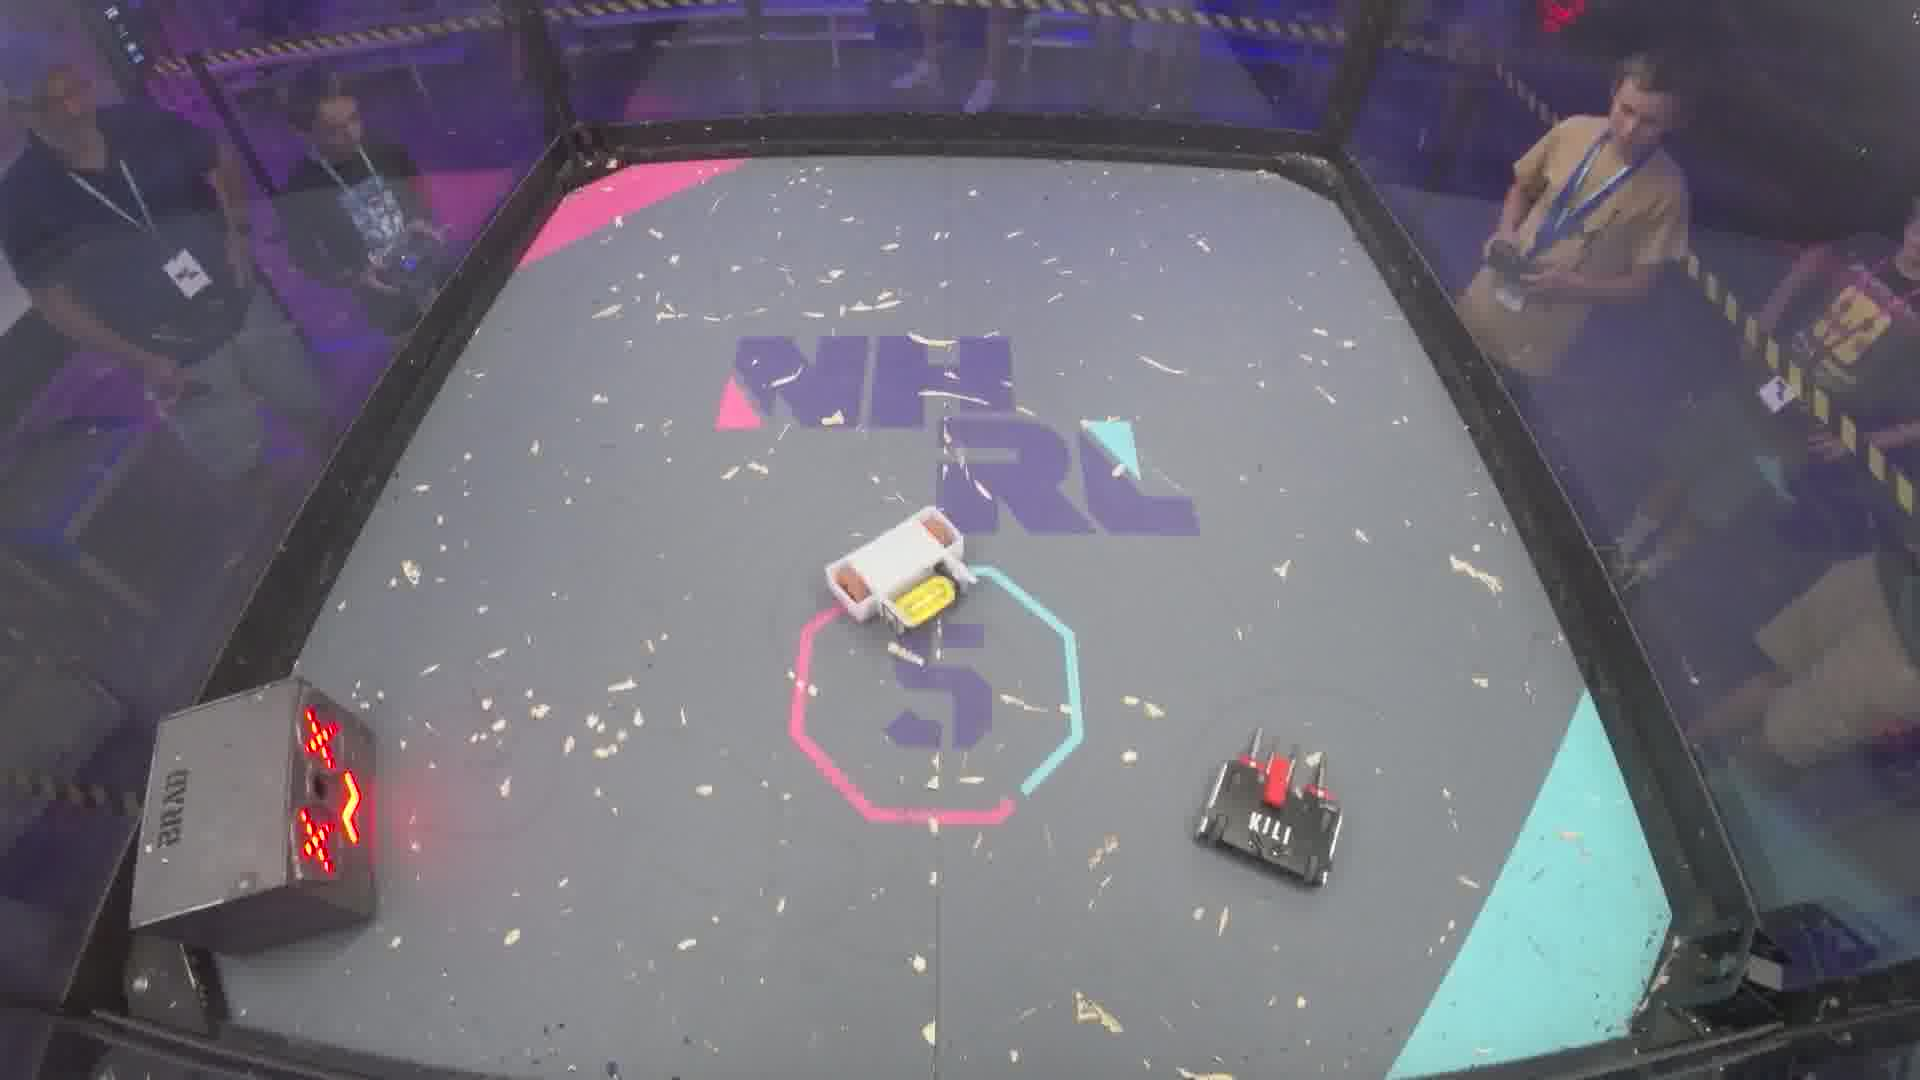combatbot: (1189, 729, 1349, 890), (818, 509, 982, 637)
housebot: (131, 669, 384, 953)
